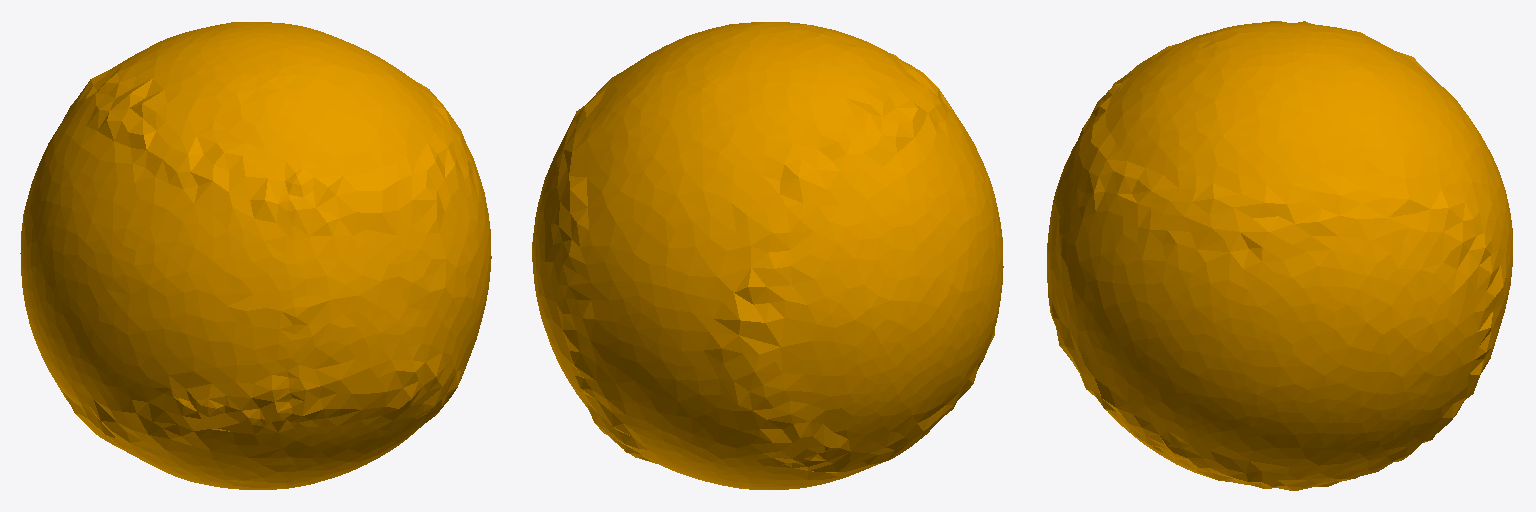
robot.urdf — softball:
<?xml version="1.0" encoding="UTF-8"?>
<robot name="softball">
	<link name="base">
		<collision>
			<geometry>
				<mesh filename="softball.obj"/>
			</geometry>
			<origin xyz="0 0 0"/>
		</collision>
		<visual>
			<geometry>
				<mesh filename="softball.obj"/>
			</geometry>
			<origin xyz="0 0 0"/>
		</visual>
		<inertial>
			<mass value="0.191"/>
			<inertia ixx="0.00017593134466897041" ixy="1.4104596610760486e-07" ixz="-5.382925245955237e-08" iyy="0.00017492581286831013" iyz="1.2802776026180832e-07" izz="0.00017657708812460245" />
			<origin xyz="2.1804038985638018e-05 0.00017643585094514477 -0.0001559214228773825"/>
		</inertial>
	</link>
</robot>

--- Render facts (derived) ---
The picture shows the robot from 3 angles, left to right: view 1: azimuth 30°, elevation 25°; view 2: azimuth 150°, elevation 25°; view 3: azimuth 270°, elevation 25°; orthographic projection.
Model softball with 1 links and 0 joints (none), rooted at base, posed all joints at 0.
Links seen in each view (by area): view 1: base; view 2: base; view 3: base.
Link boxes in pixels (x1,y1,x2,y2): base: (20,22,491,489); base: (532,22,1003,489); base: (1047,21,1512,490).
Bounding box of the posed robot: 0.0954 × 0.0959 × 0.0946 m (x, y, z).
1 mesh visuals loaded from 1 distinct referenced files (1 OBJ).
